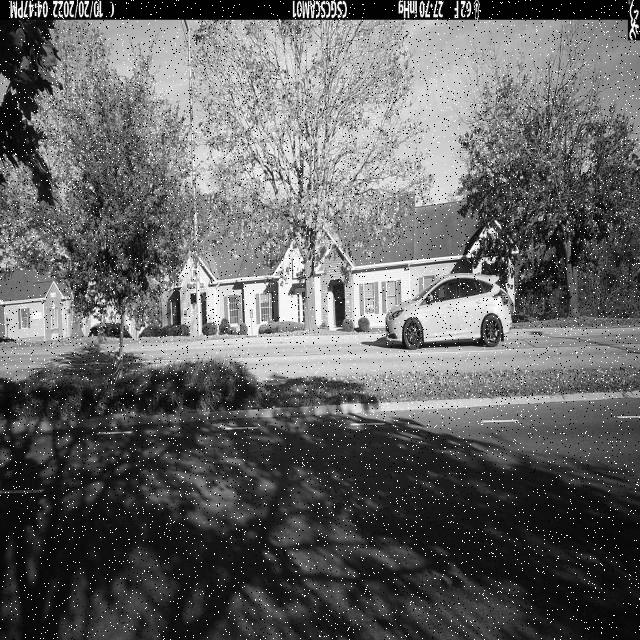Hatchback: (386, 275, 512, 350)
